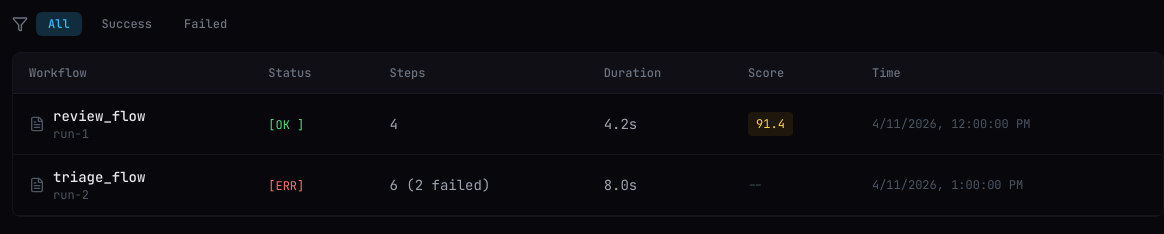
it: RunList › renders and filters runs
expect the text "review_flow" is shown: met, box [53, 106, 145, 126]
expect the text "triage_flow" is shown: met, box [53, 167, 145, 187]
Click the button "Failed": coordinates (206, 24) [172, 12, 239, 36]
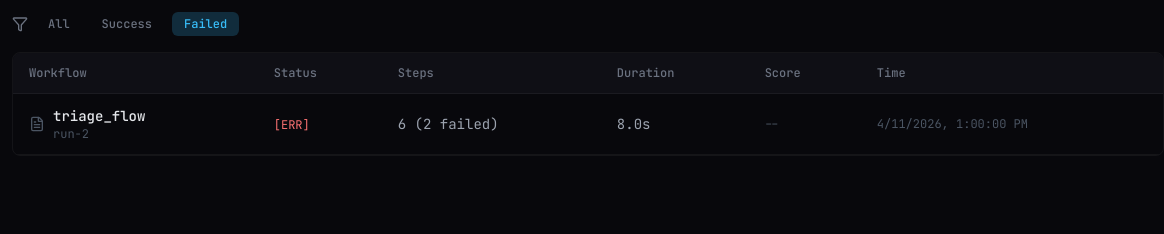
expect the text "triage_flow" is shown: met, box [53, 106, 145, 126]
expect the link "review_flow" is gone: met
Click the button "Success": coordinates (127, 24) [90, 12, 164, 36]
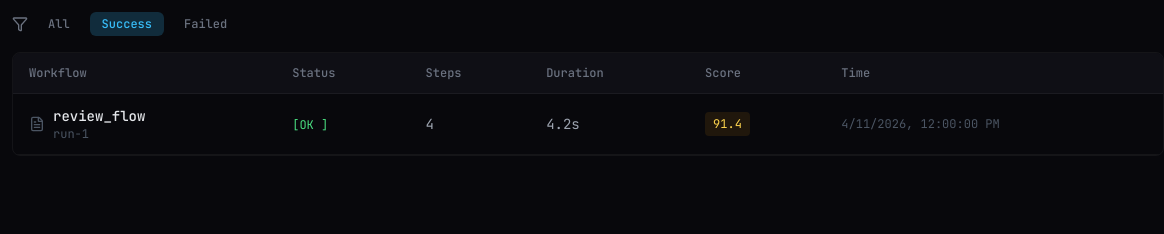
expect the text "review_flow" is shown: met, box [53, 106, 145, 126]
expect the link "triage_flow" is gone: met
